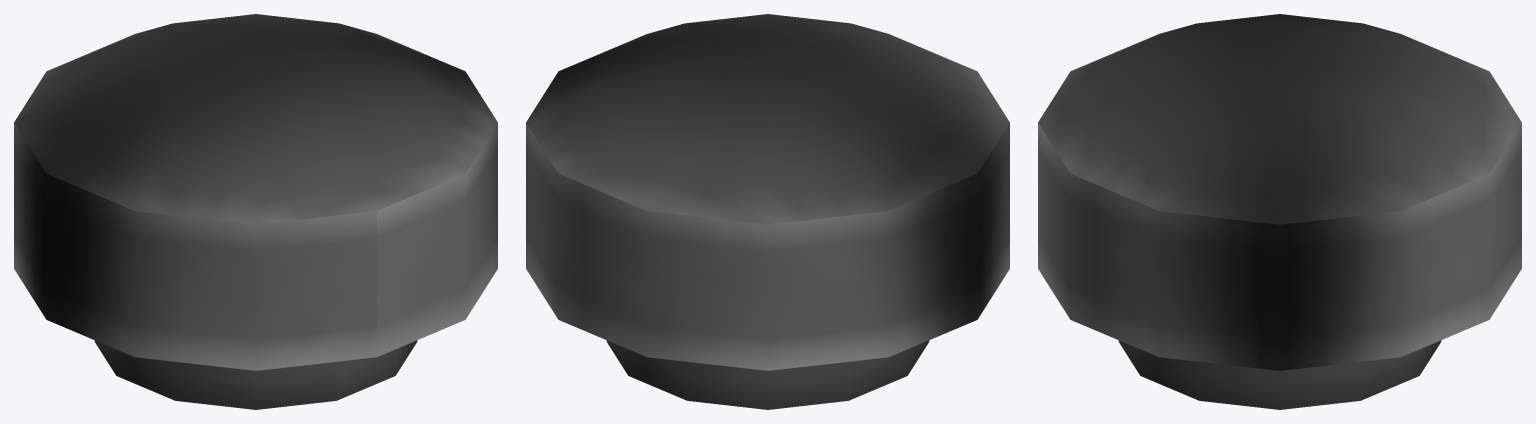
The model's file is hgneck.obj.
3 renders of one model, left to right at view 1: azimuth 30°, elevation 25°; view 2: azimuth 150°, elevation 25°; view 3: azimuth 270°, elevation 25°, orthographic.
Visible parts, largest first — view 1: 1; view 2: 1; view 3: 1.
Part boxes in pixels (left/top/right/bottom): 1: left=14, top=14, right=497, bottom=409; 1: left=526, top=14, right=1009, bottom=409; 1: left=1038, top=14, right=1521, bottom=409.
Size of the model in its own units: 0.075 by 0.05 by 0.075.
Materials: 1 (1 with a texture image).
